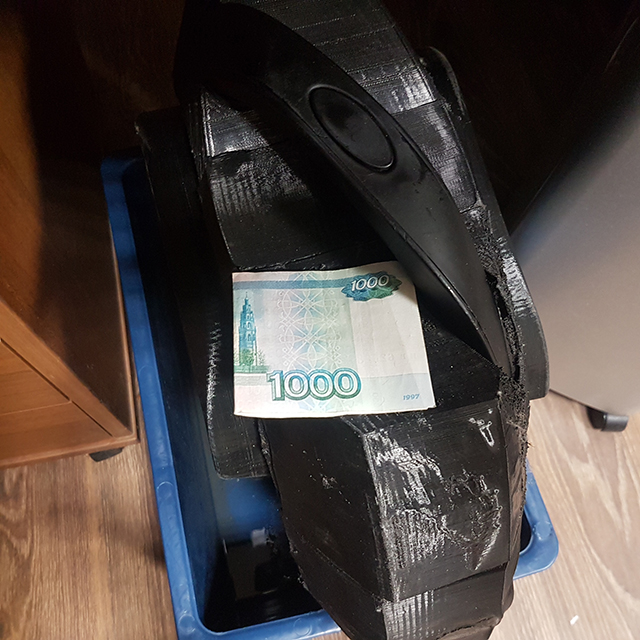banknotes: (231, 260, 440, 418)
